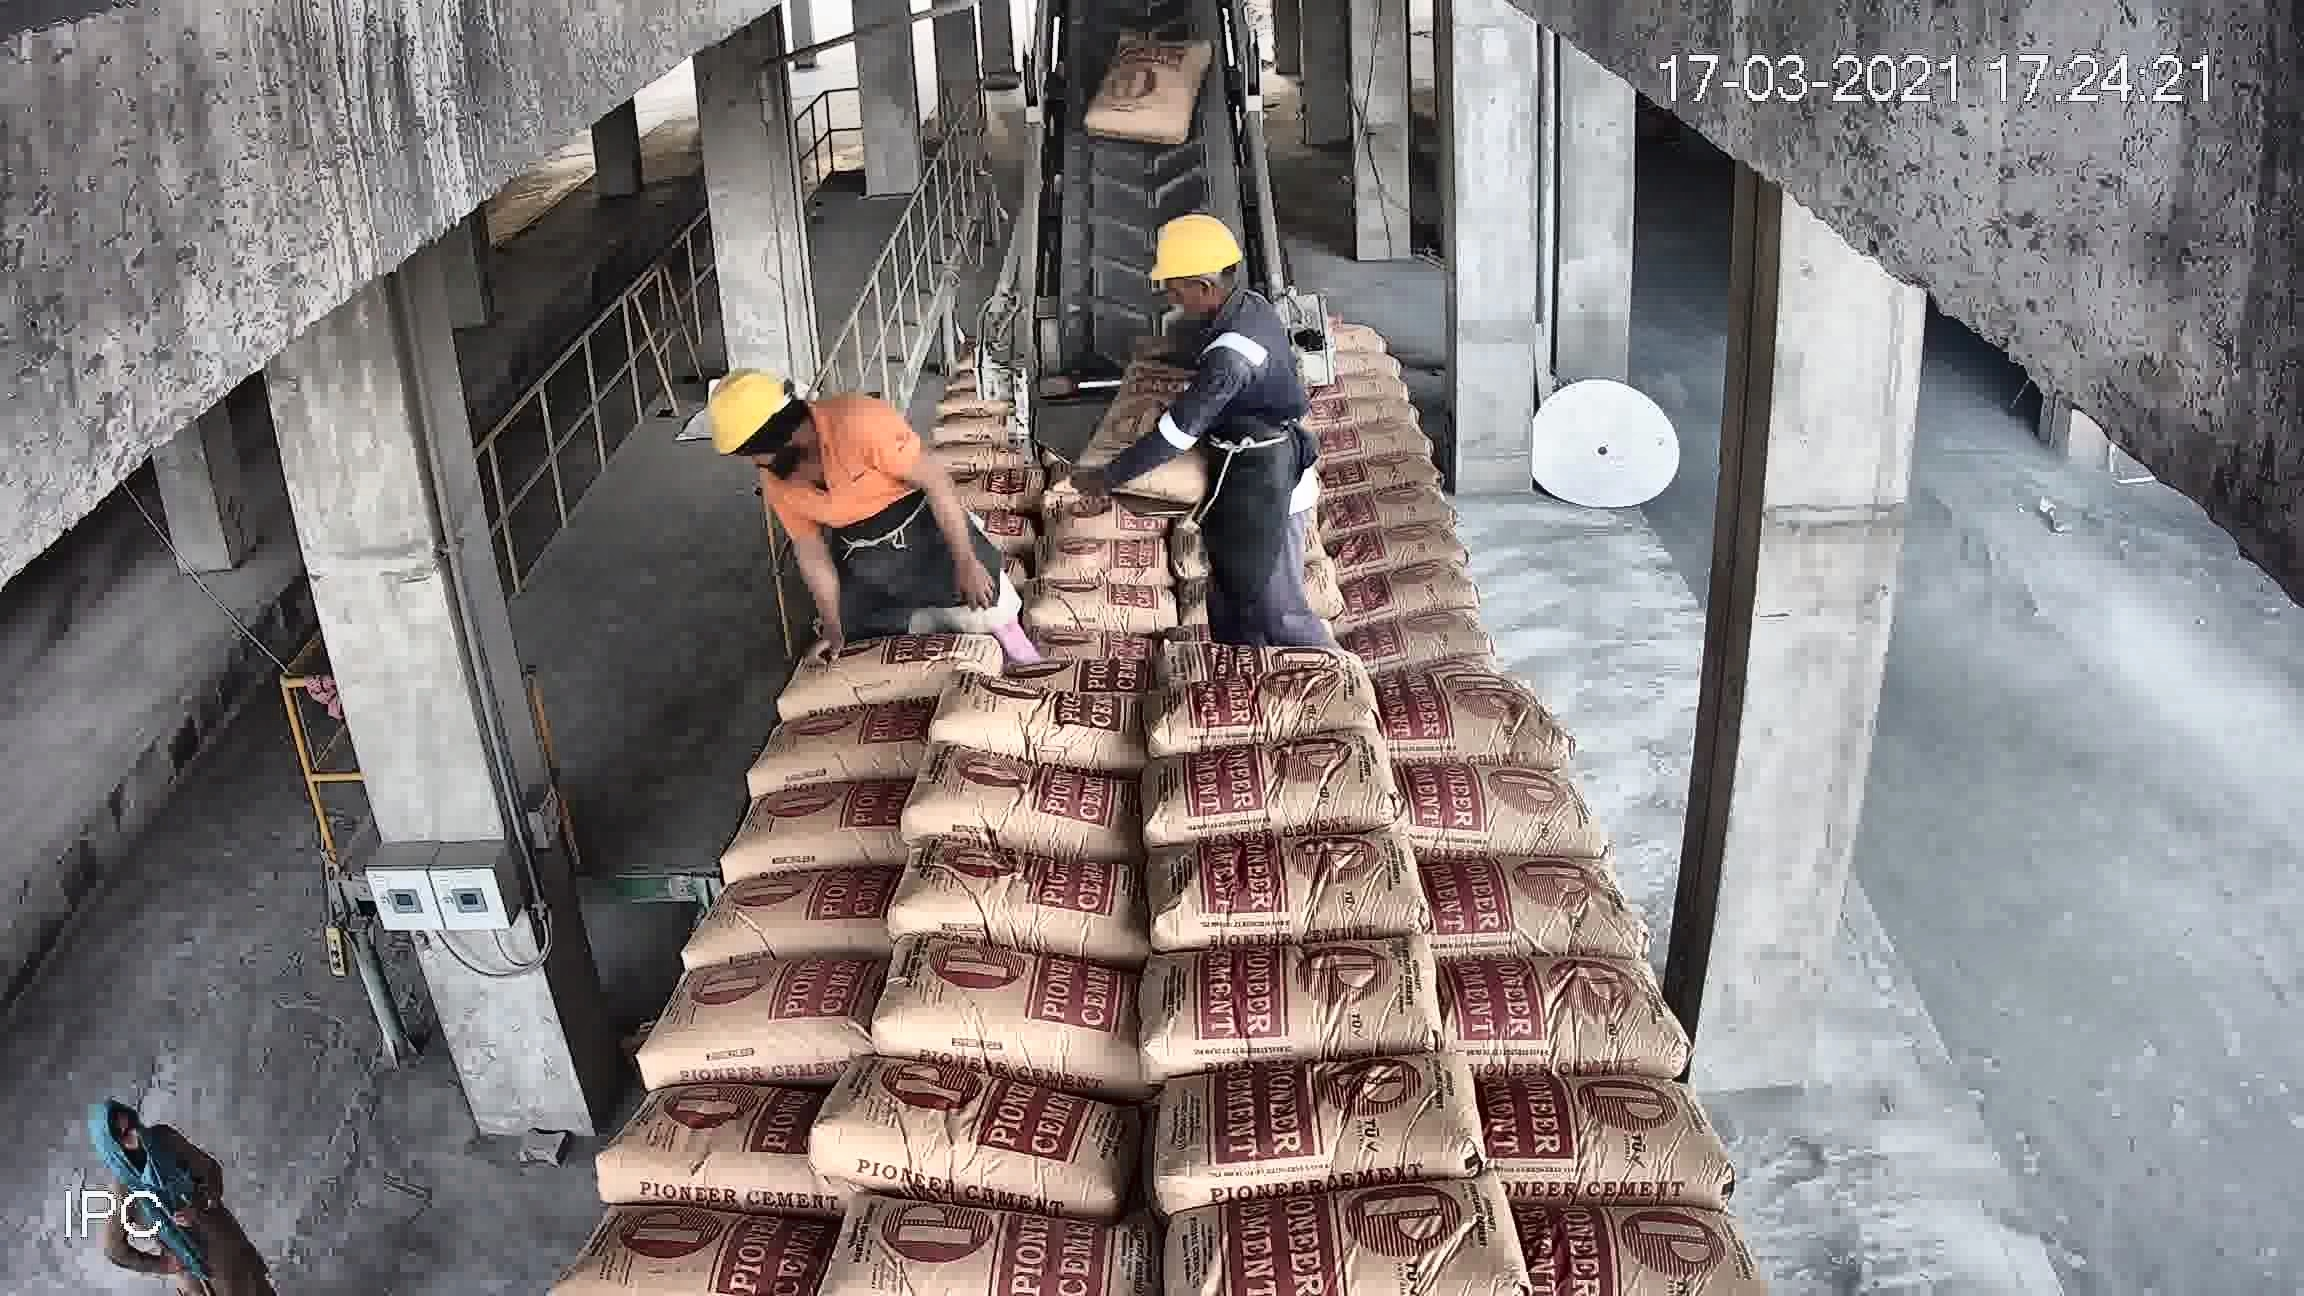bag: (1103, 283, 1211, 386), (1095, 25, 1192, 104)
bag_h: (832, 1032, 1097, 1226), (1173, 1033, 1464, 1207), (1155, 1163, 1518, 1296), (1138, 954, 1445, 1082), (1481, 1071, 1733, 1222), (885, 840, 1154, 967), (1177, 718, 1408, 858), (910, 919, 1117, 1073), (820, 1204, 1150, 1296), (1120, 652, 1359, 775), (1138, 562, 1378, 684), (590, 1074, 820, 1201), (1168, 836, 1412, 953), (1467, 949, 1698, 1073), (567, 1190, 828, 1294), (715, 760, 938, 881), (646, 946, 896, 1052), (685, 843, 907, 954), (902, 756, 1105, 873), (1442, 859, 1662, 965), (1404, 766, 1612, 866), (962, 600, 1174, 696), (937, 674, 1152, 755), (1575, 1214, 1780, 1296), (758, 699, 938, 790), (961, 492, 1149, 578), (1147, 427, 1320, 519), (1307, 495, 1518, 567), (1133, 527, 1336, 597), (1385, 695, 1559, 772), (798, 630, 945, 718), (1320, 460, 1478, 533), (804, 574, 978, 638), (1362, 552, 1497, 627), (1413, 623, 1552, 692), (824, 486, 983, 544), (975, 570, 1139, 622), (1182, 492, 1326, 548), (1294, 328, 1407, 389), (821, 536, 972, 582), (1320, 392, 1438, 449), (991, 462, 1139, 506), (1302, 361, 1416, 418), (1293, 316, 1397, 362), (946, 396, 1006, 454), (934, 446, 1014, 478)
belt: (1032, 0, 1241, 266)
